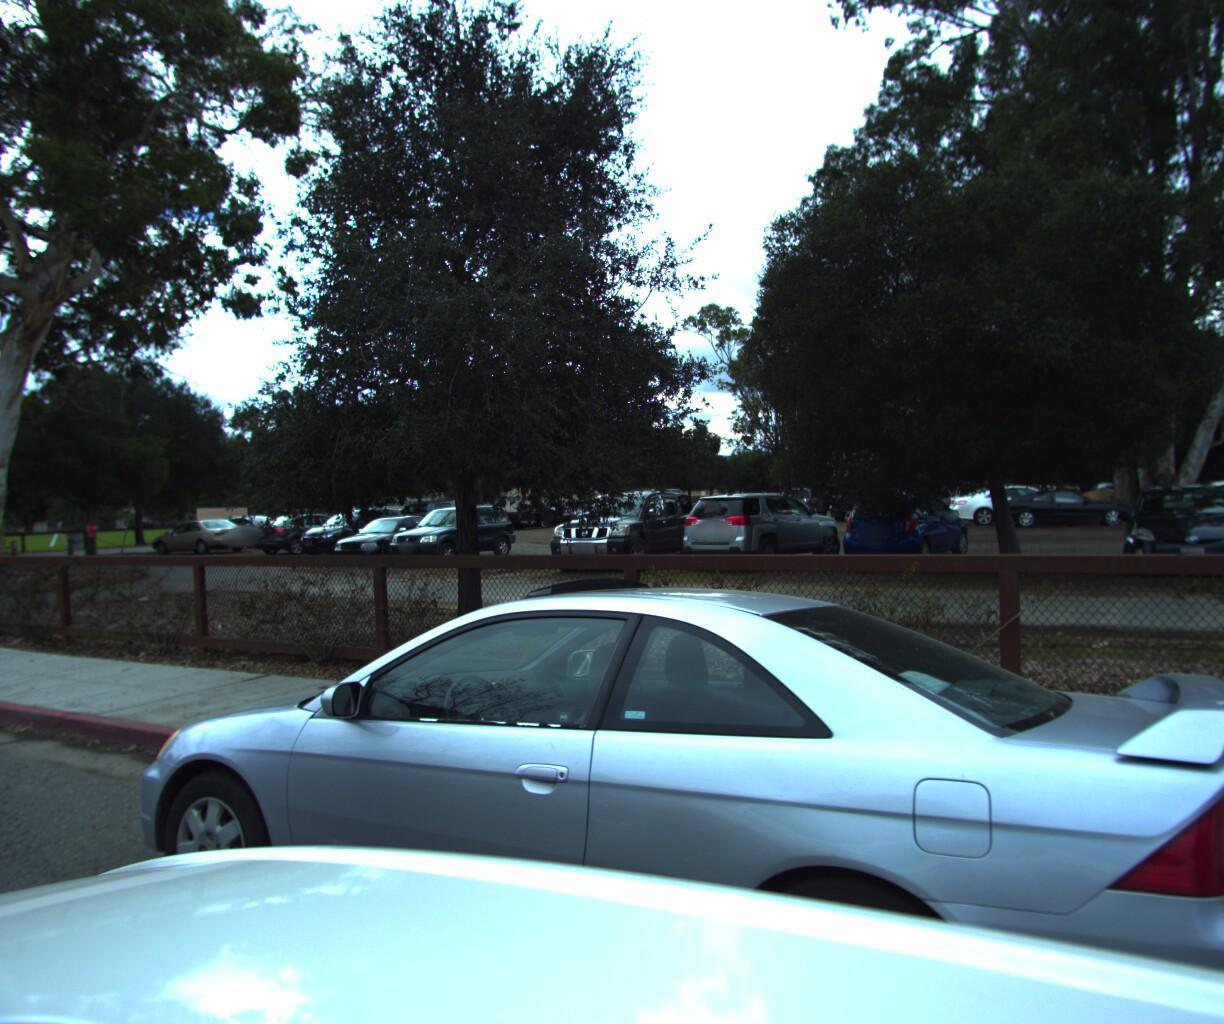car: (62, 557, 1224, 1024)
